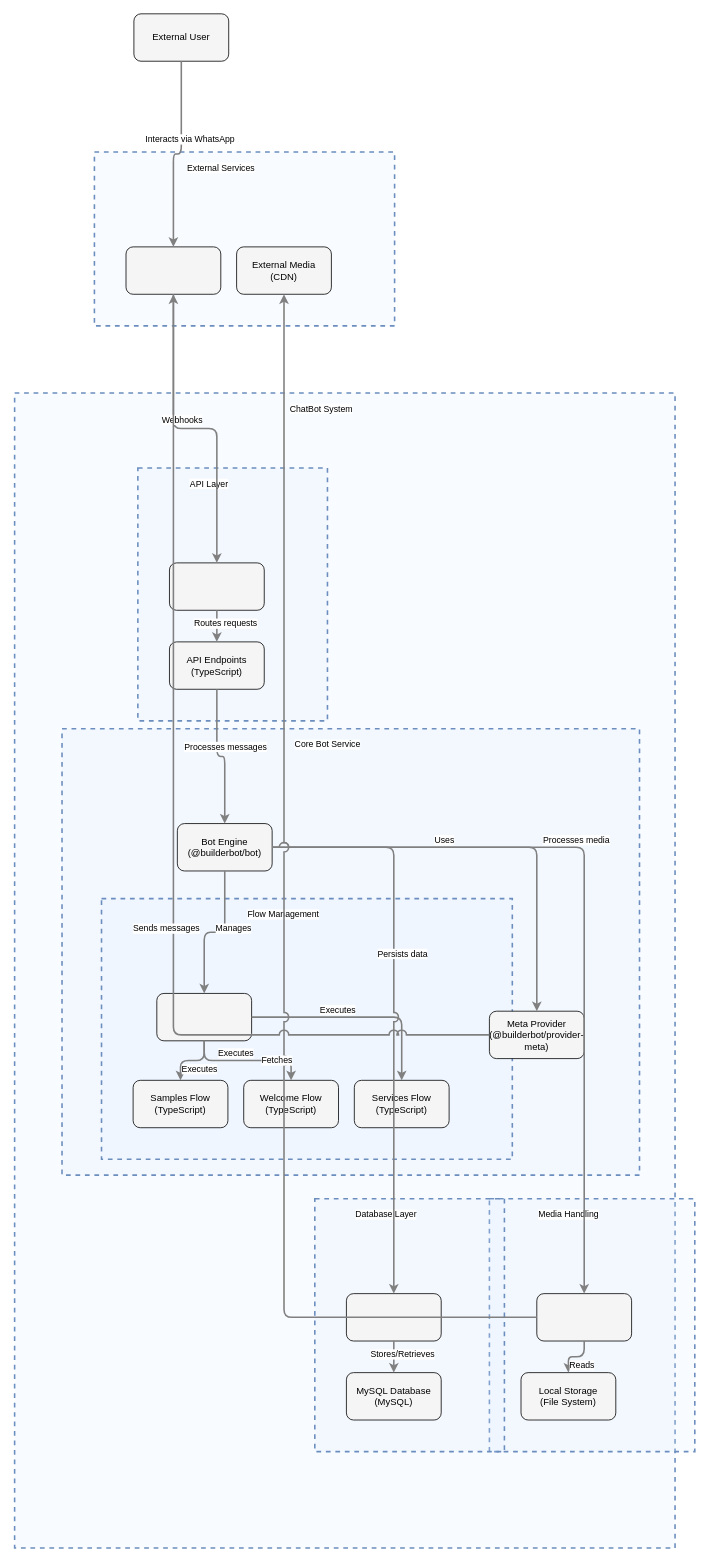
This 709x1563 diagram has some shape labels left out. The box of each missing label's shape, as (x1, y1, x2, y2) in pixels:
Database Adapter (@builderbot/database-mysql): (346, 1293, 441, 1341)
Flow Manager (TypeScript): (156, 993, 252, 1041)
Media Processor (Node.js): (536, 1293, 632, 1341)
Meta API (WhatsApp Cloud API): (125, 246, 221, 294)
Web Server (Node.js/Express): (169, 562, 264, 610)
